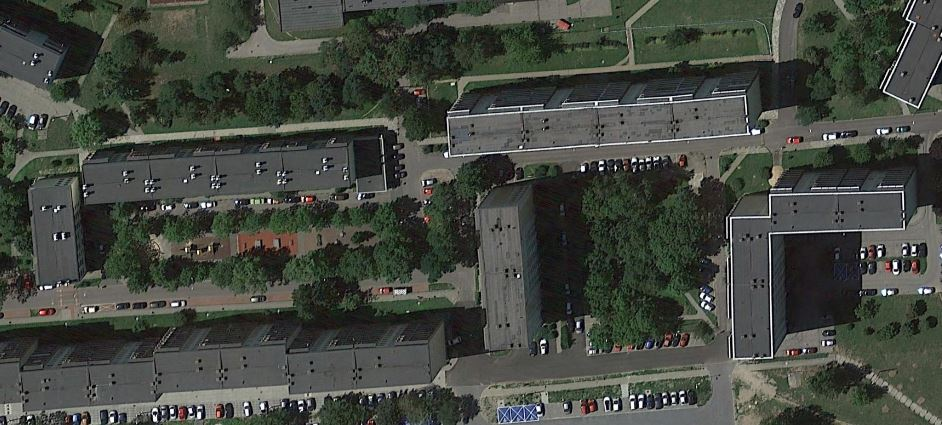block of flats: (1, 308, 451, 421), (726, 161, 918, 367), (444, 59, 770, 163), (79, 129, 389, 210), (471, 176, 544, 357), (872, 1, 941, 116), (21, 174, 90, 286)
